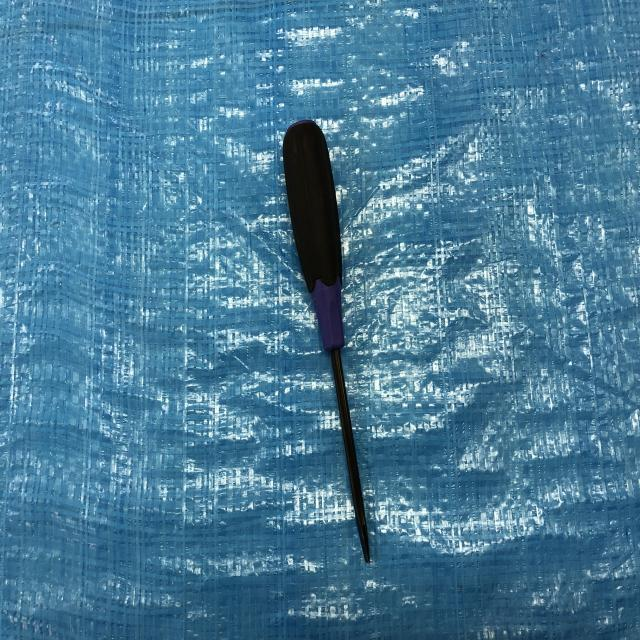screwdriver: (281, 115, 373, 569)
